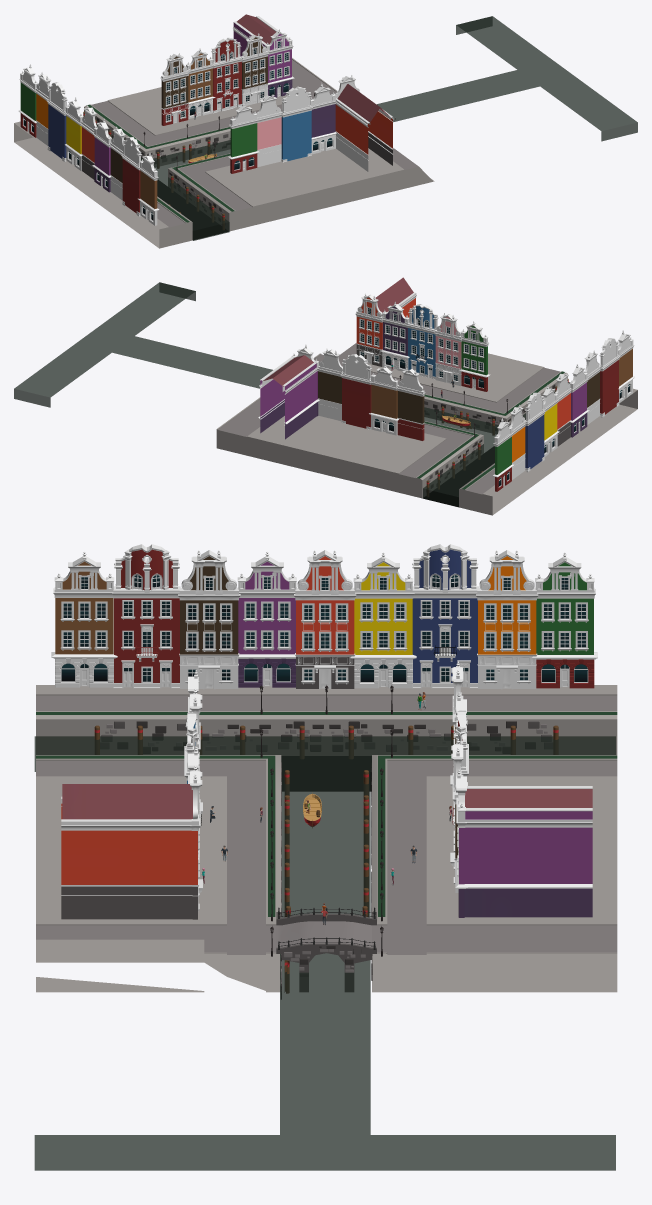
Rendered from base-ams-4.glb.
The picture shows the model from 3 angles, top to bottom: view 1: azimuth 30°, elevation 25°; view 2: azimuth 150°, elevation 25°; view 3: azimuth 270°, elevation 25°; orthographic projection. The views are drawn at different scales.
Visible parts, largest first — view 1: Ground_geo12, Water_geo, Parts_geo_16, Parts_geo_13, Parts_geo_22_New_color_palette_mat_0.001, Parts_geo_29_New_color_palette_mat_0.001, Parts_geo_11_New_color_palette_mat_0.001, Parts_geo_20_New_color_palette_mat_0.001, Parts_geo_02, Parts_geo_11, Parts_geo_26_New_color_palette_mat_0.001, Parts_geo_08_New_color_palette_mat_0.001 (+10 smaller); view 2: Ground_geo12, Water_geo, Parts_geo_07_New_color_palette_mat_0.001, Parts_geo_22_New_color_palette_mat_0.001, Parts_geo_13, Parts_geo_29_New_color_palette_mat_0.001, Parts_geo_02, Parts_geo_11_New_color_palette_mat_0.001, Parts_geo_26_New_color_palette_mat_0.001, Parts_geo_17, Parts_geo_11, Parts_geo_20_New_color_palette_mat_0.001 (+10 smaller); view 3: Ground_geo12, Water_geo, Parts_geo_16, Parts_geo_07_New_color_palette_mat_0.001, Parts_geo_22_New_color_palette_mat_0.003, Parts_geo_13_New_color_palette_mat_0.003, Parts_geo_02_New_color_palette_mat_0.003, Parts_geo_17_New_color_palette_mat_0.003, Parts_geo_20_New_color_palette_mat_0.003, Parts_geo_26_New_color_palette_mat_0.003, Parts_geo_11_New_color_palette_mat_0.005, Parts_geo_11_New_color_palette_mat_0.006 (+3 smaller).
Boxes of the visible parts, x1,y1,x2,y2 form: Ground_geo12: (14, 58, 434, 248); Water_geo: (96, 16, 637, 240); Parts_geo_16: (335, 84, 393, 171); Parts_geo_13: (281, 86, 312, 162); Parts_geo_22_New_color_palette_mat_0.001: (211, 37, 242, 113); Parts_geo_29_New_color_palette_mat_0.001: (160, 53, 189, 125); Parts_geo_11_New_color_palette_mat_0.001: (228, 102, 259, 173); Parts_geo_20_New_color_palette_mat_0.001: (241, 33, 269, 105); Parts_geo_02: (256, 94, 281, 167); Parts_geo_11: (310, 83, 336, 154); Parts_geo_26_New_color_palette_mat_0.001: (186, 48, 215, 118); Parts_geo_08_New_color_palette_mat_0.001: (265, 29, 294, 97); Ground_geo12: (216, 343, 637, 515); Water_geo: (14, 282, 569, 506); Parts_geo_07_New_color_palette_mat_0.001: (258, 355, 317, 439); Parts_geo_22_New_color_palette_mat_0.001: (340, 354, 372, 429); Parts_geo_13: (407, 304, 438, 379); Parts_geo_29_New_color_palette_mat_0.001: (397, 368, 425, 440); Parts_geo_02: (434, 313, 461, 386); Parts_geo_11_New_color_palette_mat_0.001: (459, 321, 490, 391); Parts_geo_26_New_color_palette_mat_0.001: (369, 363, 398, 435); Parts_geo_17: (355, 293, 382, 366); Parts_geo_11: (380, 302, 409, 371); Parts_geo_20_New_color_palette_mat_0.001: (318, 348, 342, 421); Ground_geo12: (36, 685, 617, 999); Water_geo: (34, 736, 615, 1170); Parts_geo_16: (61, 784, 196, 919); Parts_geo_07_New_color_palette_mat_0.001: (464, 786, 592, 917); Parts_geo_22_New_color_palette_mat_0.003: (112, 544, 181, 688); Parts_geo_13_New_color_palette_mat_0.003: (410, 544, 479, 688); Parts_geo_02_New_color_palette_mat_0.003: (476, 550, 538, 689); Parts_geo_17_New_color_palette_mat_0.003: (294, 550, 356, 689); Parts_geo_20_New_color_palette_mat_0.003: (178, 550, 240, 689); Parts_geo_26_New_color_palette_mat_0.003: (51, 551, 117, 687); Parts_geo_11_New_color_palette_mat_0.005: (350, 552, 416, 688); Parts_geo_11_New_color_palette_mat_0.006: (531, 552, 597, 688).
Size of the model in its own units: 34.71 by 6.23 by 18.25.
3 materials, 2 textured.
